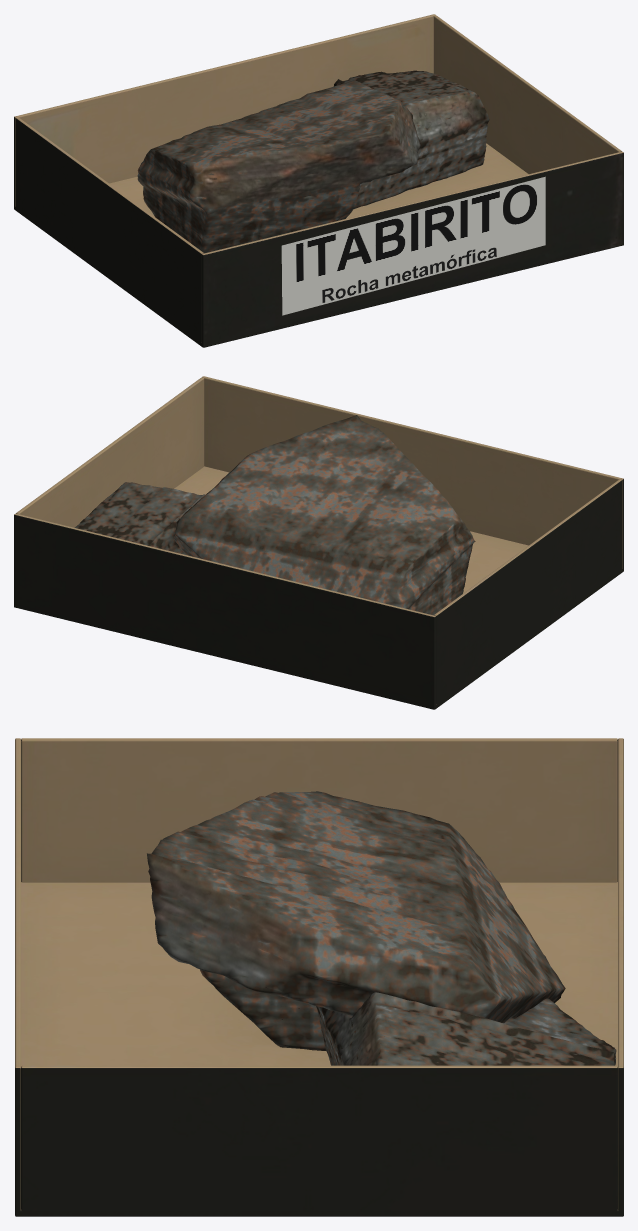
Rendered from rocha_02_18_itabirito.glb.
The picture shows the model from 3 angles, top to bottom: view 1: azimuth 30°, elevation 25°; view 2: azimuth 150°, elevation 25°; view 3: azimuth 270°, elevation 25°; orthographic projection. The views are drawn at different scales.
Visible parts, largest first — view 1: Fragmento_01_mo18, Bandeja_Fundo_mo18, Bandeja_Frente_mo18, Etiqueta_mo18, Bandeja_Esquerda_mo18, Bandeja_Direita_mo18, Fragmento_02_mo18, Bandeja_Base_mo18; view 2: Bandeja_Fundo_mo18, Fragmento_01_mo18, Bandeja_Frente_mo18, Bandeja_Esquerda_mo18, Bandeja_Direita_mo18, Fragmento_02_mo18, Bandeja_Base_mo18; view 3: Bandeja_Direita_mo18, Fragmento_01_mo18, Bandeja_Esquerda_mo18, Bandeja_Base_mo18, Fragmento_02_mo18, Bandeja_Frente_mo18, Bandeja_Fundo_mo18.
Boxes of the visible parts, left/top/right/bottom form: Fragmento_01_mo18: left=137, top=80, right=420, bottom=253; Bandeja_Fundo_mo18: left=14, top=14, right=435, bottom=209; Bandeja_Frente_mo18: left=201, top=151, right=623, bottom=347; Etiqueta_mo18: left=281, top=176, right=545, bottom=315; Bandeja_Esquerda_mo18: left=16, top=117, right=203, bottom=345; Bandeja_Direita_mo18: left=433, top=15, right=621, bottom=173; Fragmento_02_mo18: left=334, top=70, right=489, bottom=209; Bandeja_Base_mo18: left=14, top=143, right=528, bottom=347; Bandeja_Fundo_mo18: left=14, top=513, right=436, bottom=708; Fragmento_01_mo18: left=174, top=415, right=475, bottom=615; Bandeja_Frente_mo18: left=202, top=376, right=623, bottom=571; Bandeja_Esquerda_mo18: left=434, top=479, right=621, bottom=707; Bandeja_Direita_mo18: left=16, top=377, right=204, bottom=527; Fragmento_02_mo18: left=74, top=482, right=205, bottom=555; Bandeja_Base_mo18: left=14, top=466, right=623, bottom=709; Bandeja_Direita_mo18: left=21, top=1065, right=617, bottom=1216; Fragmento_01_mo18: left=147, top=791, right=565, bottom=1050; Bandeja_Esquerda_mo18: left=21, top=738, right=617, bottom=882; Bandeja_Base_mo18: left=15, top=882, right=623, bottom=1216; Fragmento_02_mo18: left=316, top=992, right=616, bottom=1065; Bandeja_Frente_mo18: left=15, top=738, right=20, bottom=1216; Bandeja_Fundo_mo18: left=618, top=738, right=623, bottom=1216.
Size of the model in its own units: 0.1942 by 0.058 by 0.1517.
Materials: 3 (3 with a texture image).
